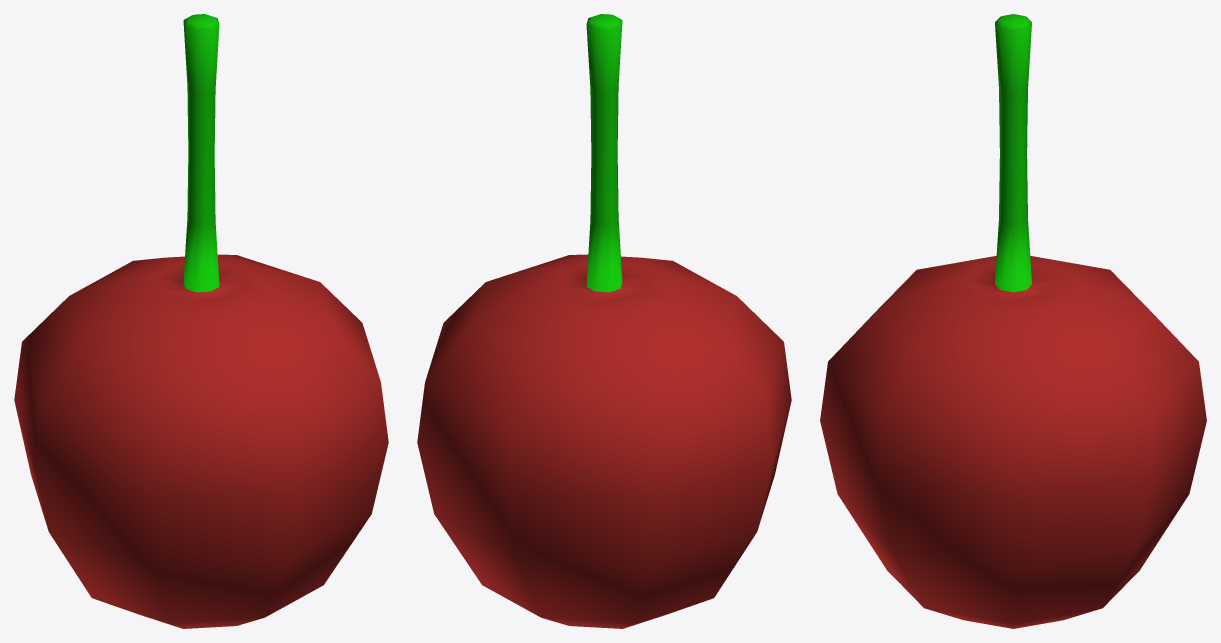
File: cherry.glb
The picture shows the model from 3 angles, left to right: view 1: azimuth 30°, elevation 25°; view 2: azimuth 150°, elevation 25°; view 3: azimuth 270°, elevation 25°; orthographic projection.
Parts seen in each view (by area): view 1: cherry; view 2: cherry; view 3: cherry.
Part boxes in pixels (x1,y1,x2,y2): cherry: (14, 14, 388, 628); cherry: (417, 14, 791, 628); cherry: (820, 14, 1206, 628).
Bounding box in the file's own units: 0.0507 × 0.0846 × 0.0507.
